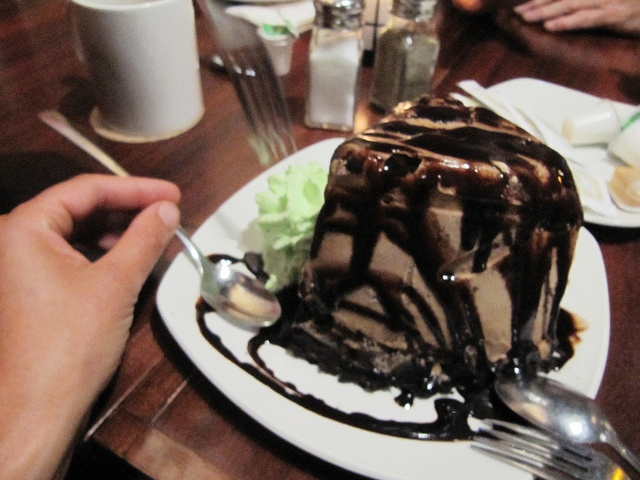Cake: (253, 56, 609, 430)
